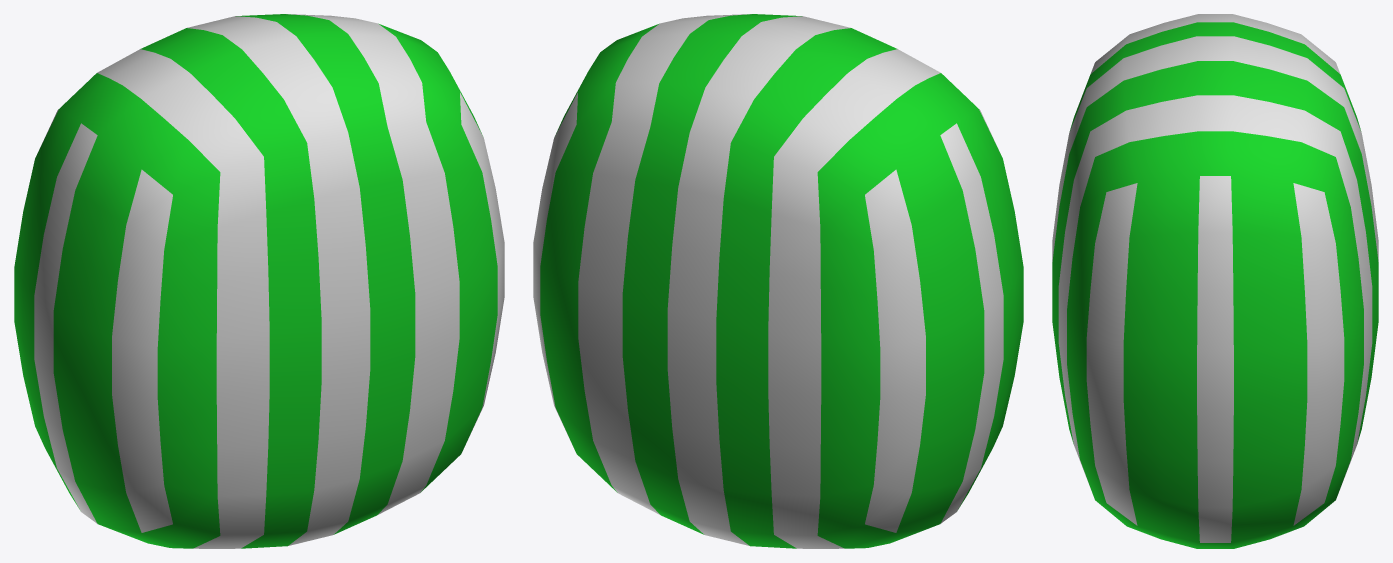
Rendered from base_bonbon_vert.dae.
3 views of the same model, side by side, from view 1: azimuth 30°, elevation 25°; view 2: azimuth 150°, elevation 25°; view 3: azimuth 270°, elevation 25° (orthographic). The views are drawn at different scales.
Visible parts, largest first — view 1: Cube_001; view 2: Cube_001; view 3: Cube_001.
Boxes of the visible parts, x1,y1,x2,y2 form: Cube_001: (14,14,504,548); Cube_001: (533,14,1023,548); Cube_001: (1052,14,1378,548).
Bounding box in the file's own units: 2.25 × 1.56 × 2.46.
